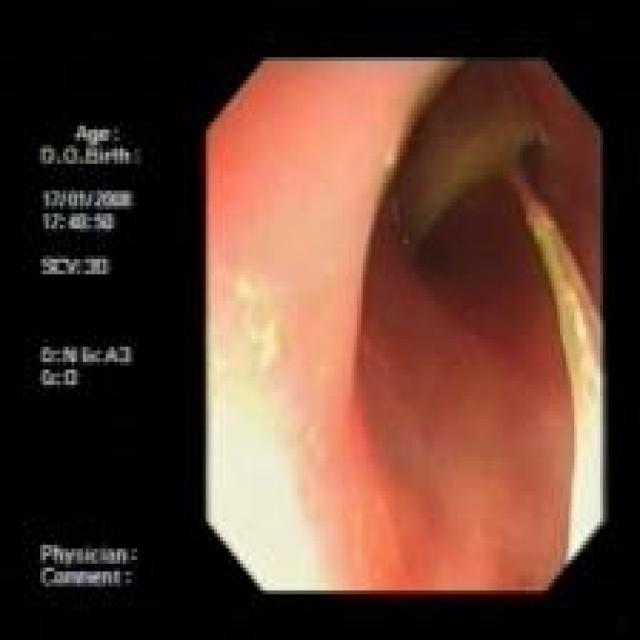blur: (207, 58, 603, 591)
color misalignment: (29, 117, 153, 592), (408, 132, 583, 247)
saturation: (206, 259, 341, 591), (566, 371, 602, 561)
